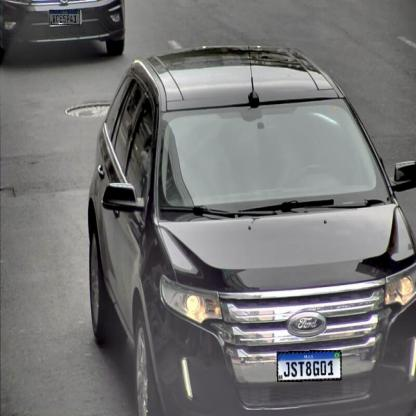PlacaM: (276, 350, 342, 382), (49, 10, 80, 25)
